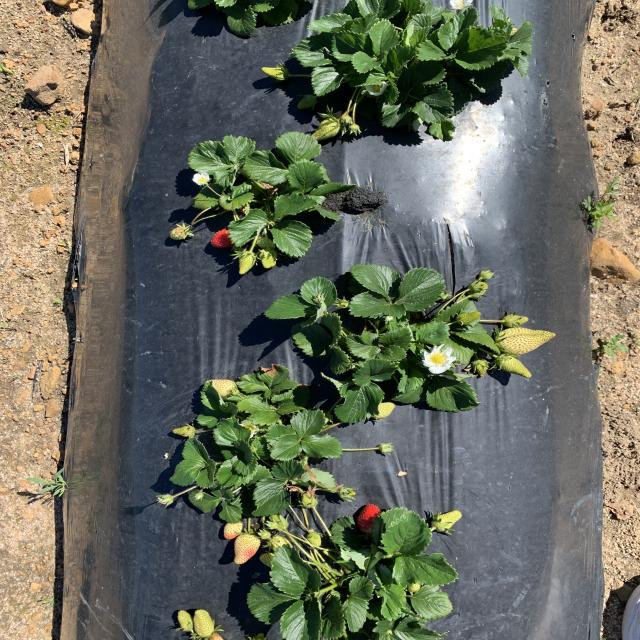unripe: (356, 502, 389, 536), (209, 227, 243, 252)
